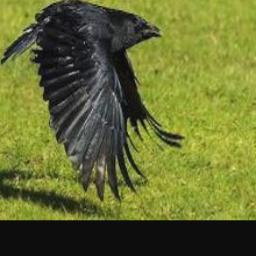Crow: (0, 0, 185, 202)
